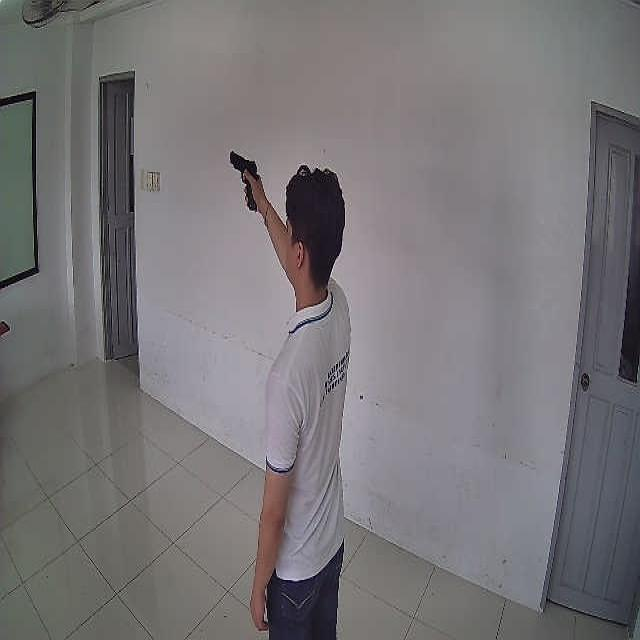pistol: (228, 151, 258, 209)
